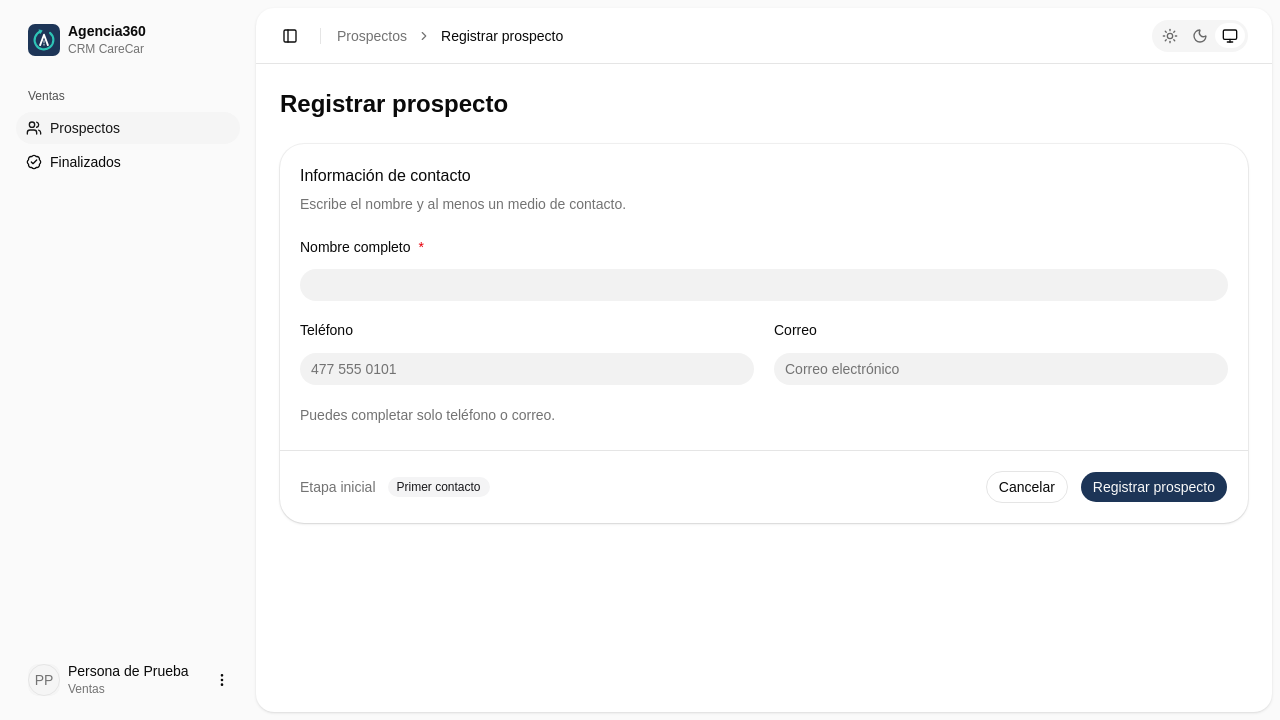
Test: Registro de prospecto › pide el nombre
The image size is (1280, 720).
In the field labelled "Teléfono": (527, 368) x1=300 y1=352 x2=754 y2=384, type "4771234567"
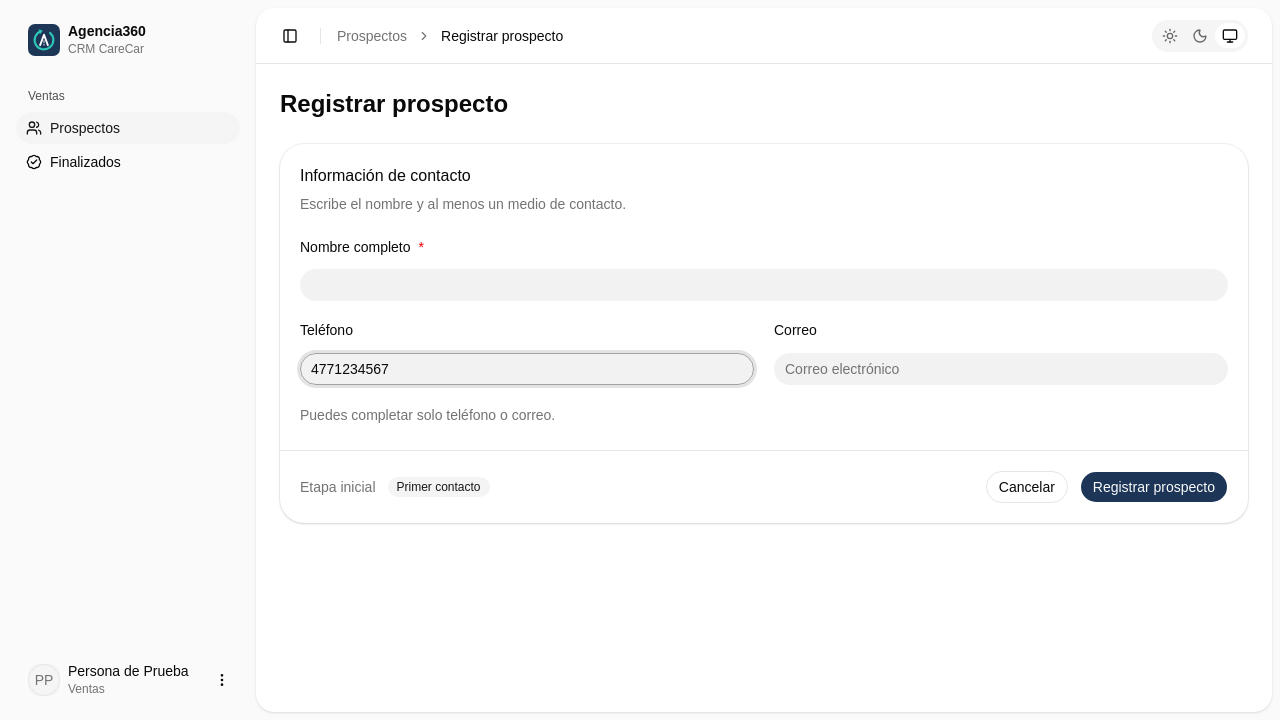
Click the button "Registrar prospecto": click(1154, 486) x1=1080 y1=470 x2=1228 y2=502
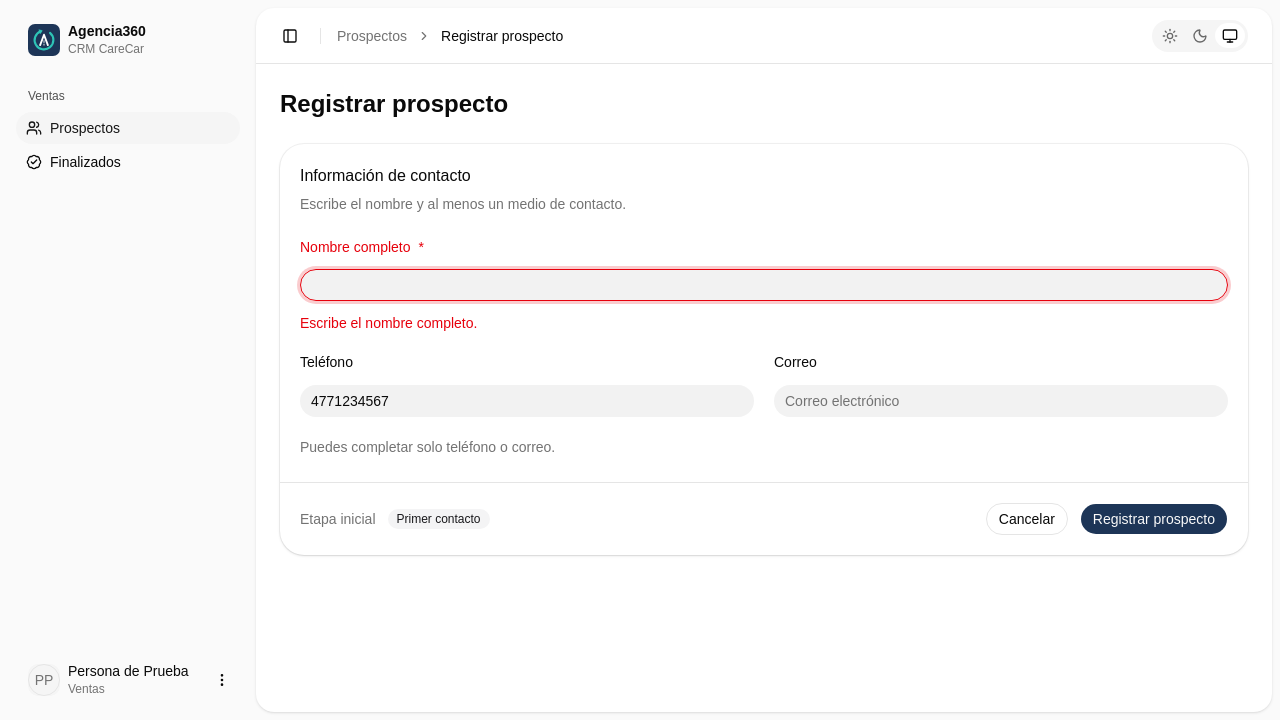
Check: the text "Escribe el nombre completo." is shown, box x1=300 y1=315 x2=477 y2=331
